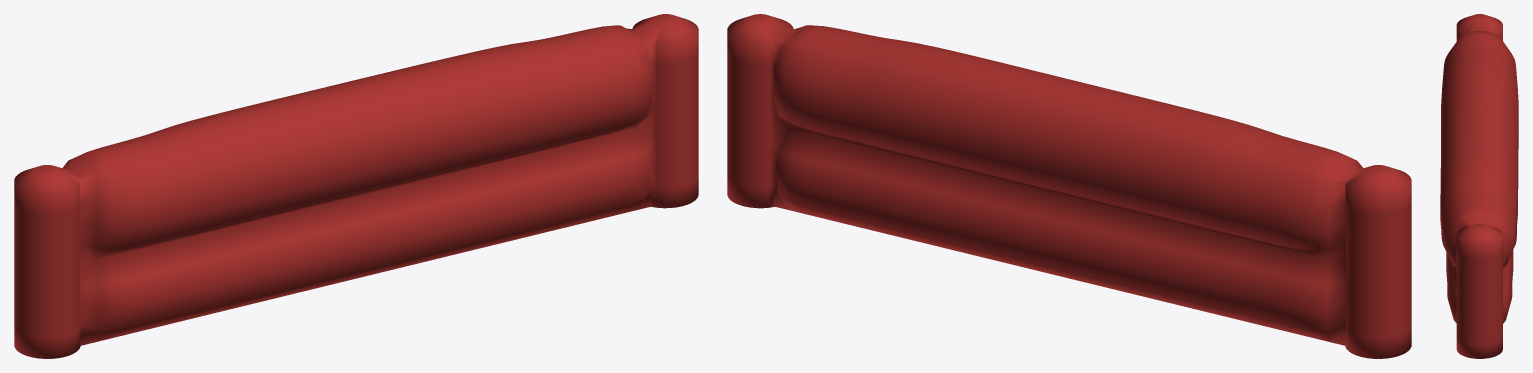
File: bouncy_wall-flat2.fbx
3 views of the same model, side by side, from view 1: azimuth 30°, elevation 25°; view 2: azimuth 150°, elevation 25°; view 3: azimuth 270°, elevation 25° (orthographic). The views are drawn at different scales.
Parts seen in each view (by area): view 1: bouncyWall2; view 2: bouncyWall2; view 3: bouncyWall2.
Part boxes in pixels (left/top/right/bottom): bouncyWall2: left=14, top=14, right=698, bottom=358; bouncyWall2: left=727, top=14, right=1411, bottom=358; bouncyWall2: left=1440, top=14, right=1518, bottom=358.
Bounding box in the file's own units: 202 × 52.27 × 29.26.
